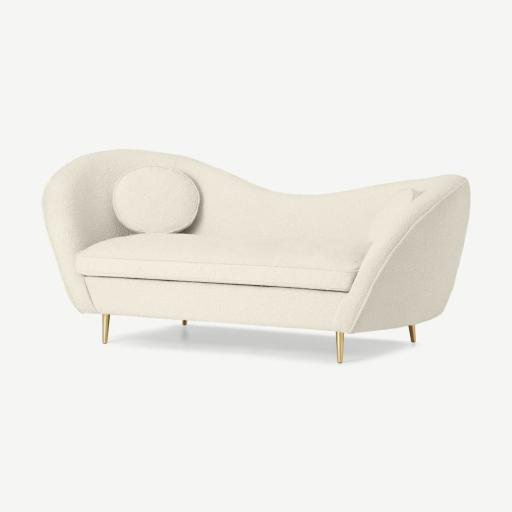back_cushion: (113, 156, 461, 243)
base: (85, 277, 349, 332)
left_arm: (330, 180, 469, 333)
legs: (336, 332, 344, 363), (102, 315, 109, 343), (409, 325, 415, 342), (183, 320, 186, 325)
one-seater: (43, 149, 469, 361)
right_arm: (43, 151, 135, 312)
seat_cushion: (75, 234, 365, 292)
